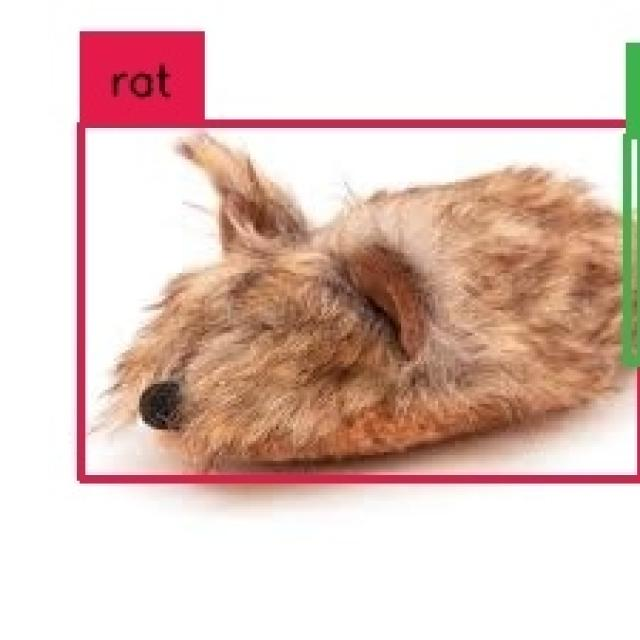rat: (82, 124, 640, 479), (628, 135, 640, 362)
